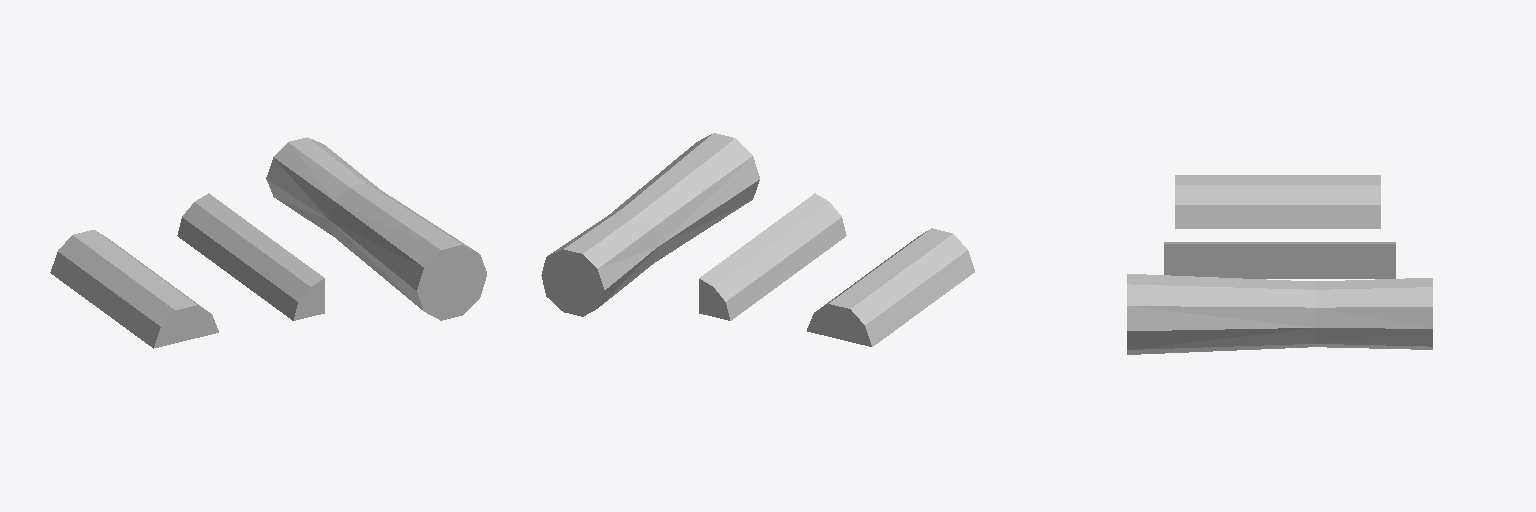
Rendered from logs.obj.
3 views of the same model, side by side, from view 1: azimuth 30°, elevation 25°; view 2: azimuth 150°, elevation 25°; view 3: azimuth 270°, elevation 25° (orthographic).
Visible parts, largest first — view 1: Logs_w_Logs_w_0; view 2: Logs_w_Logs_w_0; view 3: Logs_w_Logs_w_0.
Part boxes in pixels (left/top/right/bottom): Logs_w_Logs_w_0: left=50, top=137, right=486, bottom=348; Logs_w_Logs_w_0: left=541, top=133, right=974, bottom=346; Logs_w_Logs_w_0: left=1127, top=175, right=1432, bottom=354.
Size of the model in its own units: 0.4452 by 0.0971 by 0.3808.